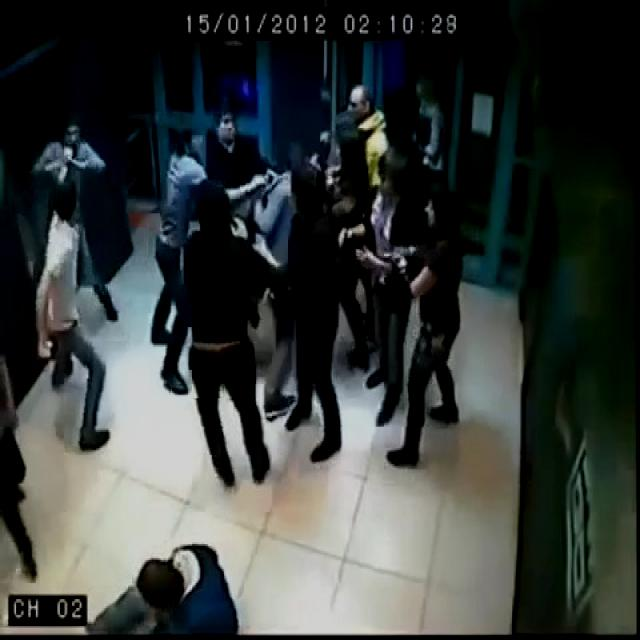fight: (26, 114, 128, 456), (150, 128, 298, 250)
